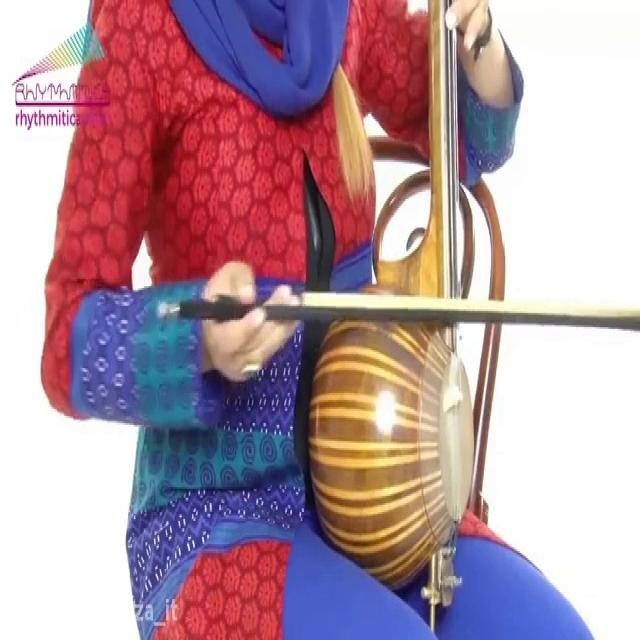Kamanche: (304, 0, 474, 603)
